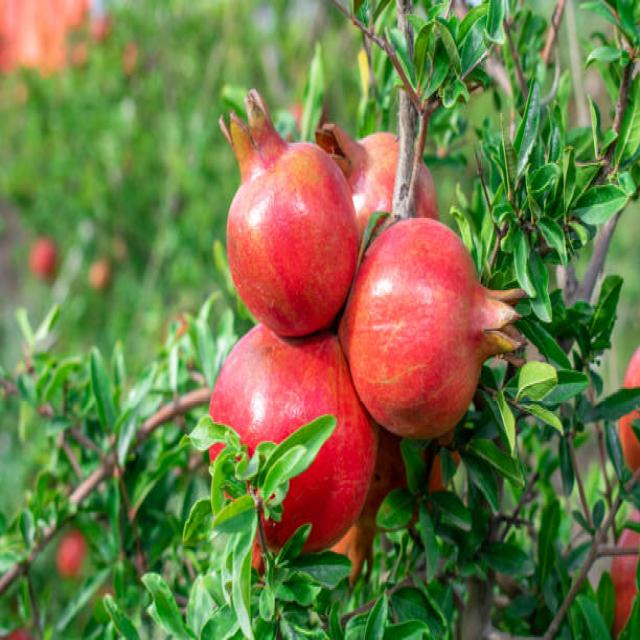Ripe: (202, 324, 379, 563), (351, 213, 524, 446), (218, 87, 362, 338)
